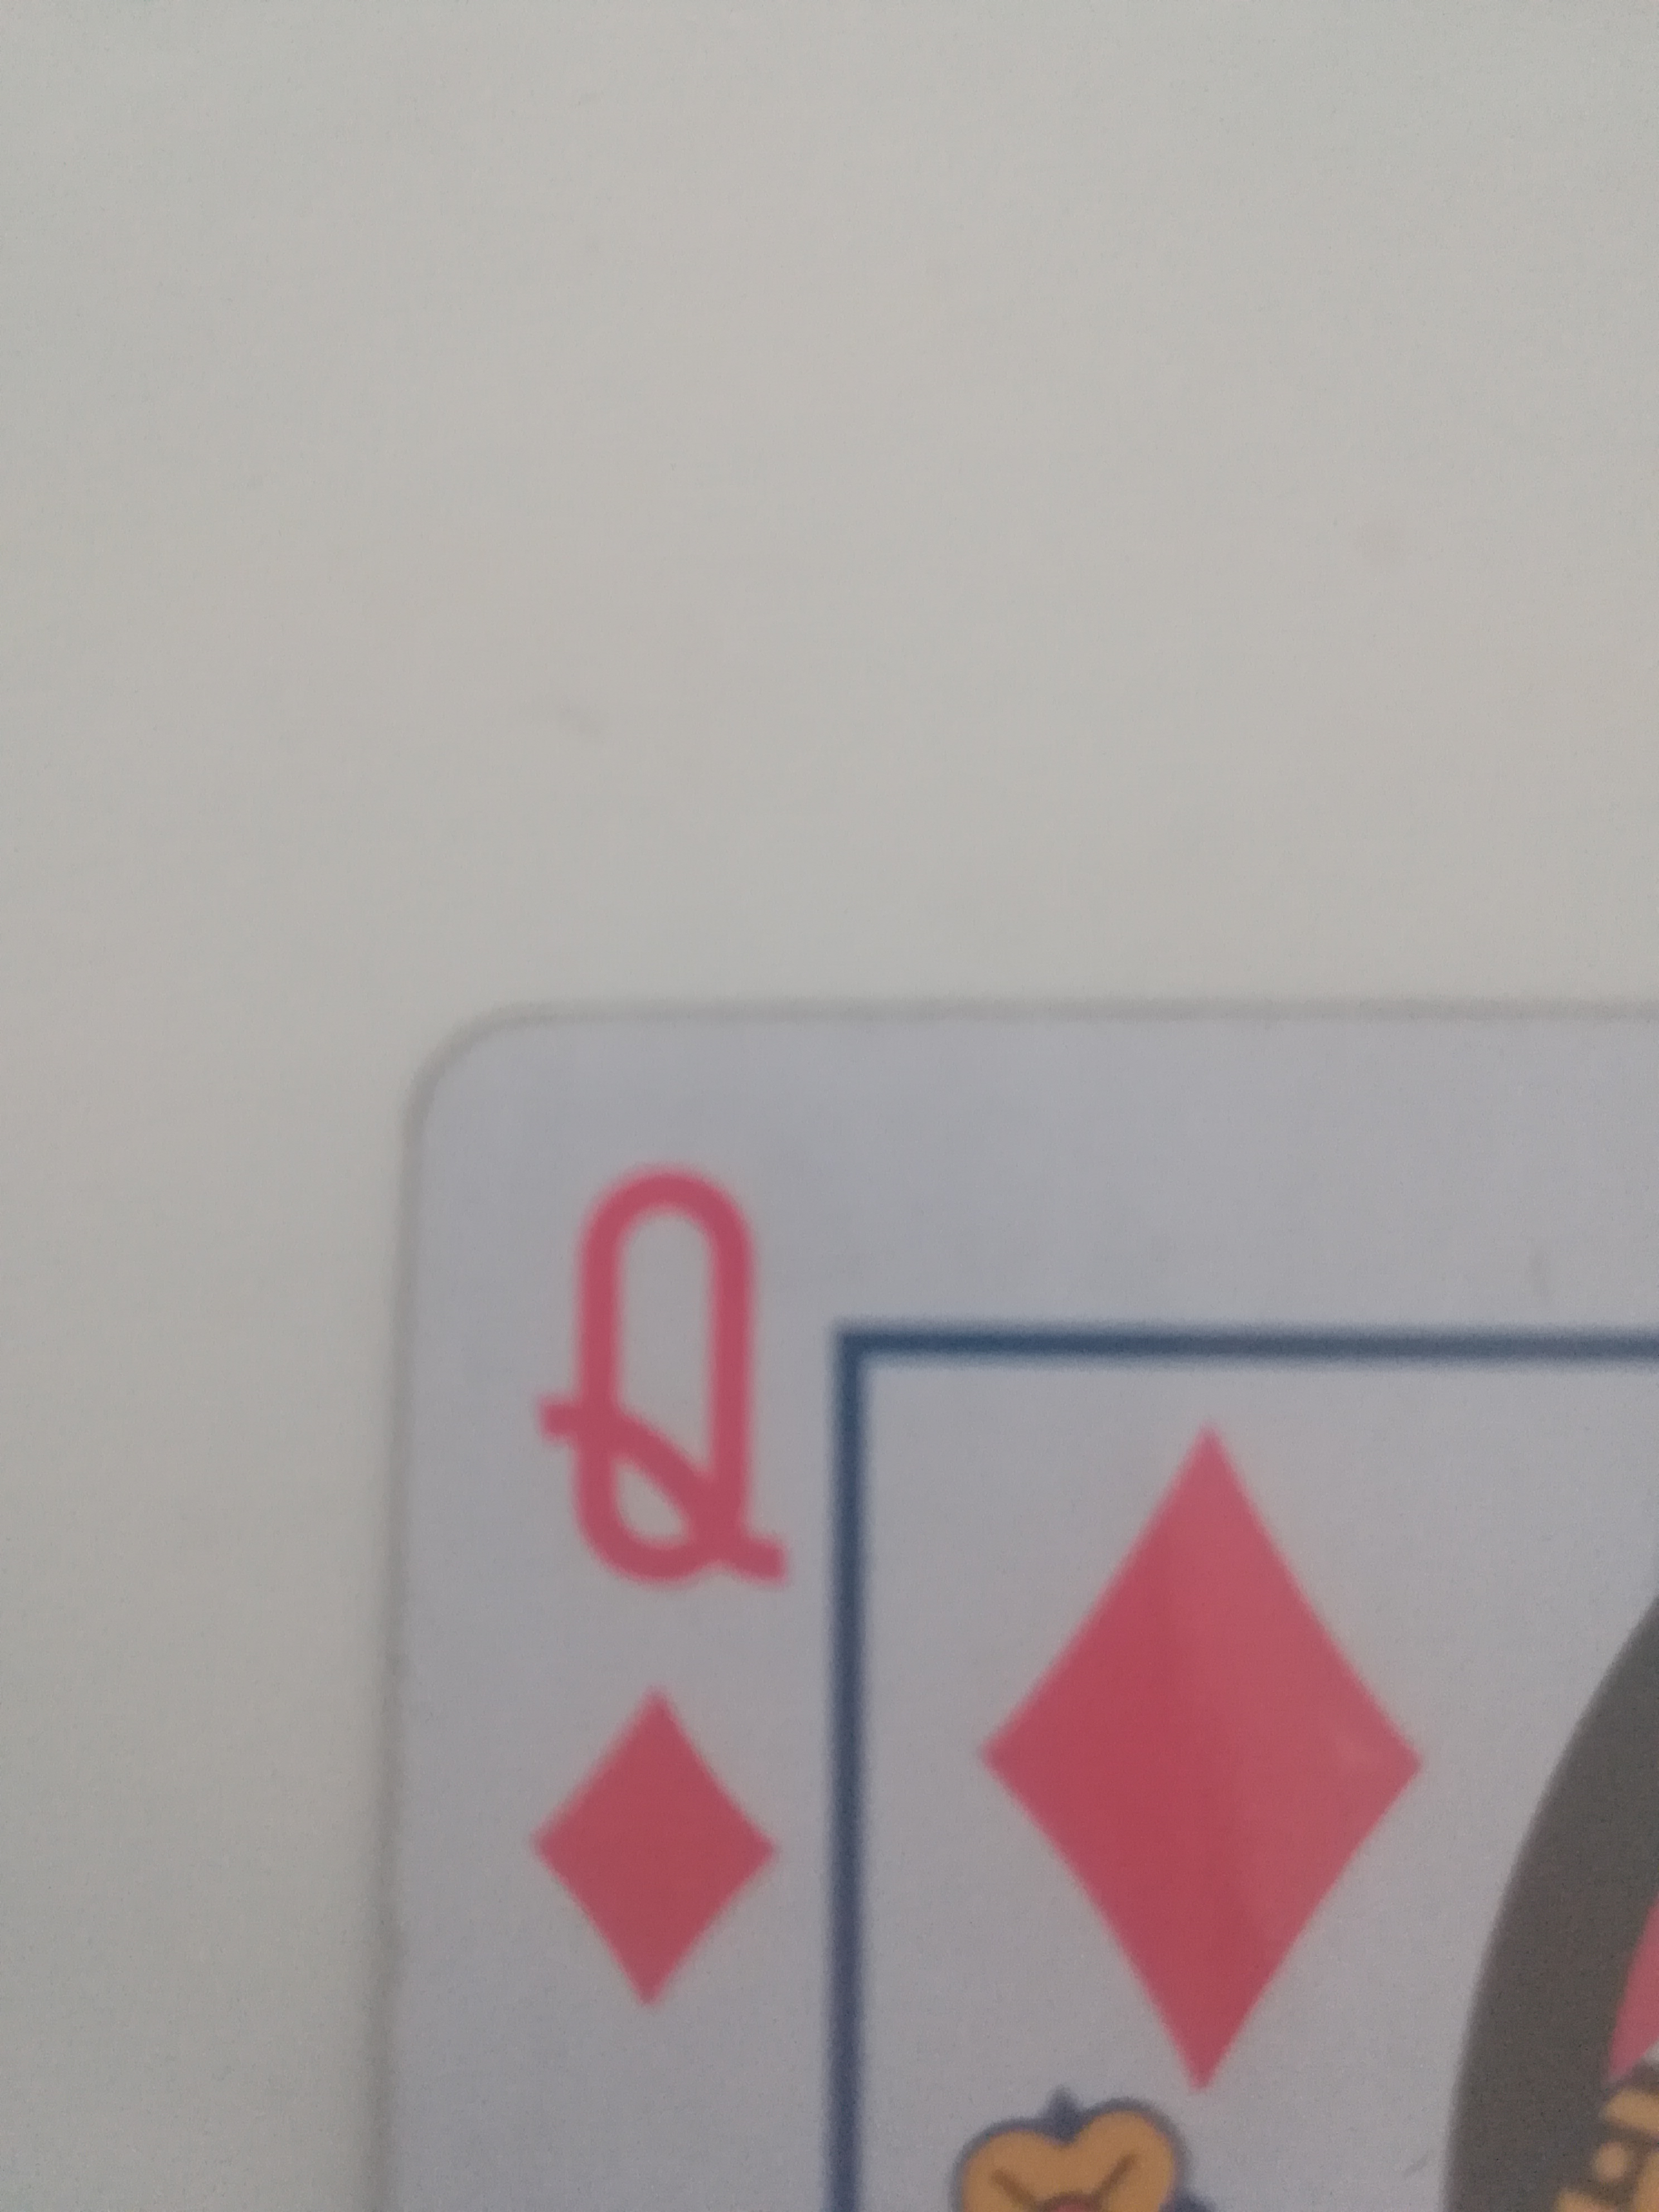QD: (375, 995, 1659, 2203)
